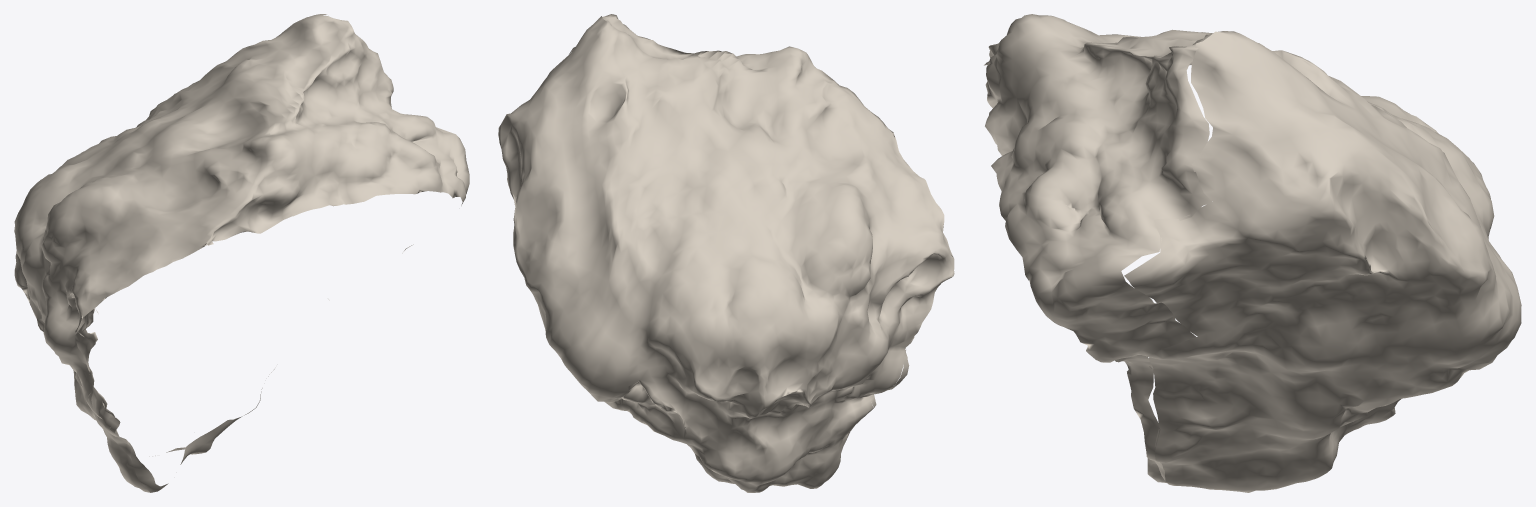
Rendered from gray-big-rock_cand01.glb.
3 views of the same model, side by side, from view 1: azimuth 30°, elevation 25°; view 2: azimuth 150°, elevation 25°; view 3: azimuth 270°, elevation 25° (orthographic). The views are drawn at different scales.
Parts seen in each view (by area): view 1: world; view 2: world; view 3: world.
Boxes of the visible parts, x1,y1,x2,y2 form: world: (14,14,469,492); world: (498,14,954,492); world: (984,14,1521,492).
Bounding box in the file's own units: 1.65 × 1.66 × 1.39.
